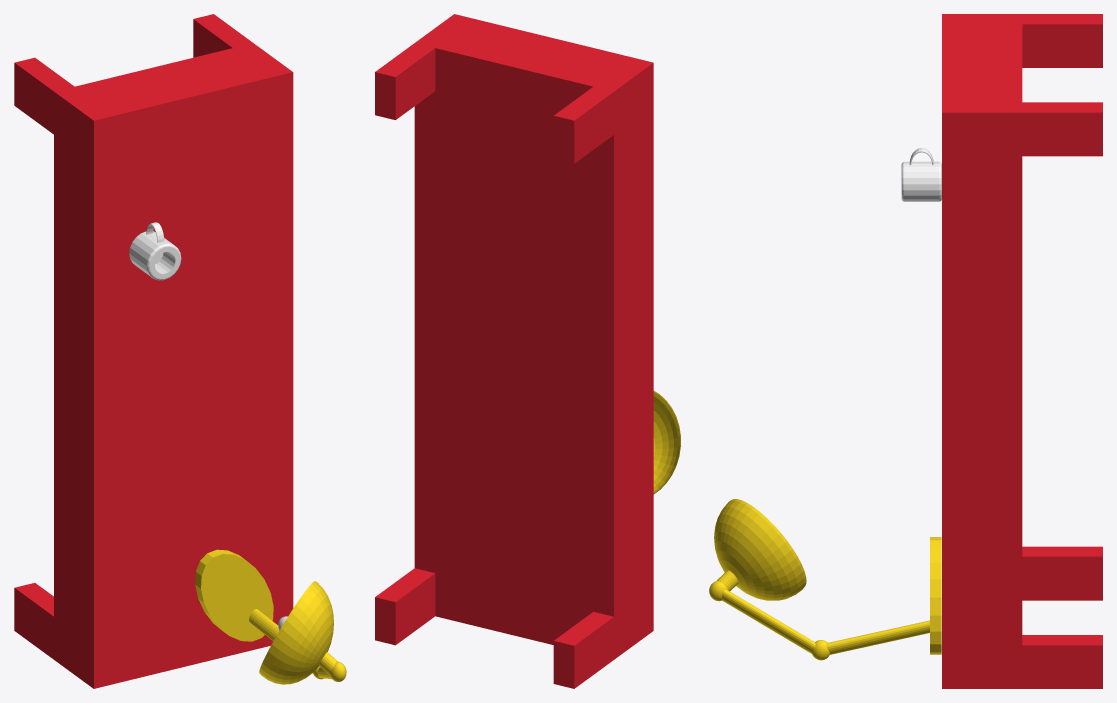
Rendered from tinker.obj.
3 views of the same model, side by side, from view 1: azimuth 30°, elevation 25°; view 2: azimuth 150°, elevation 25°; view 3: azimuth 270°, elevation 25° (orthographic).
Parts seen in each view (by area): view 1: group_0_15277357, group_0_16768282, group_0_16448250; view 2: group_0_15277357, group_0_16768282; view 3: group_0_15277357, group_0_16768282, group_0_16448250.
Part boxes in pixels (x1,y1,x2,y2): group_0_15277357: [14, 14, 293, 688]; group_0_16768282: [195, 549, 346, 684]; group_0_16448250: [129, 222, 287, 630]; group_0_15277357: [375, 14, 653, 688]; group_0_16768282: [653, 391, 680, 494]; group_0_15277357: [942, 14, 1102, 688]; group_0_16768282: [709, 499, 941, 660]; group_0_16448250: [901, 148, 941, 201].
Bounding box in the file's own units: 29 × 79 × 48.91.
